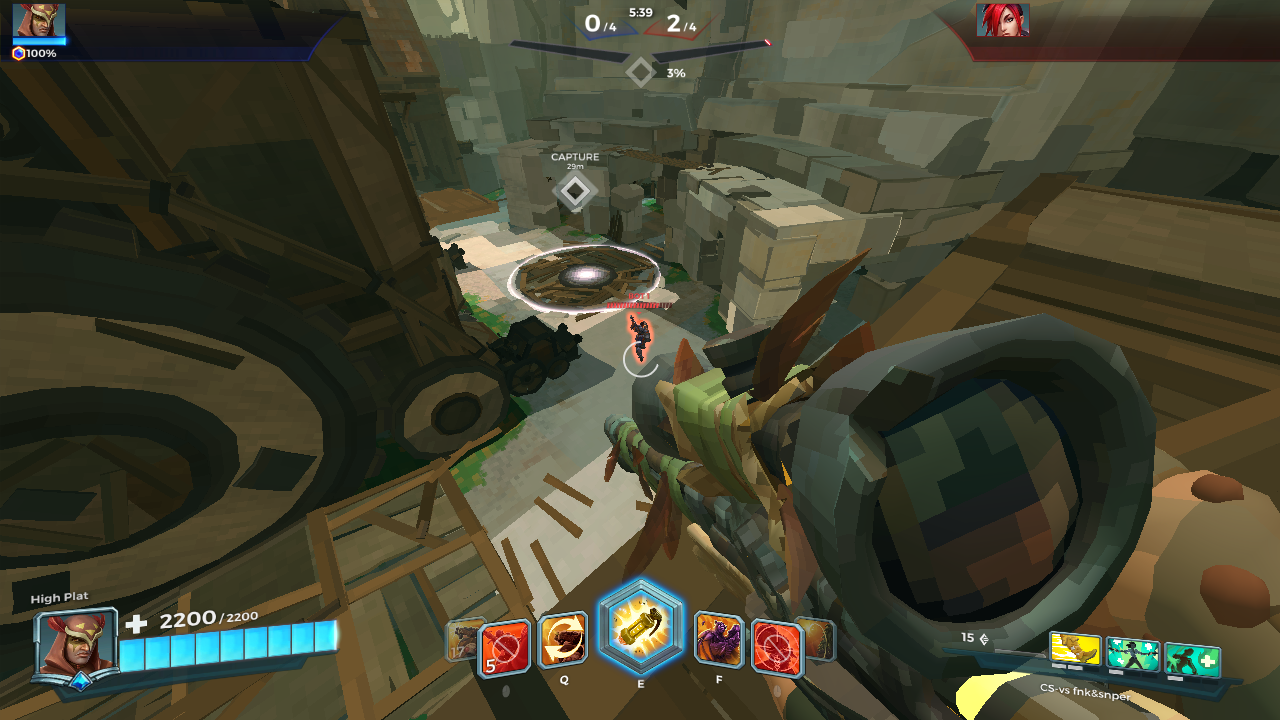model: (629, 313, 656, 363)
